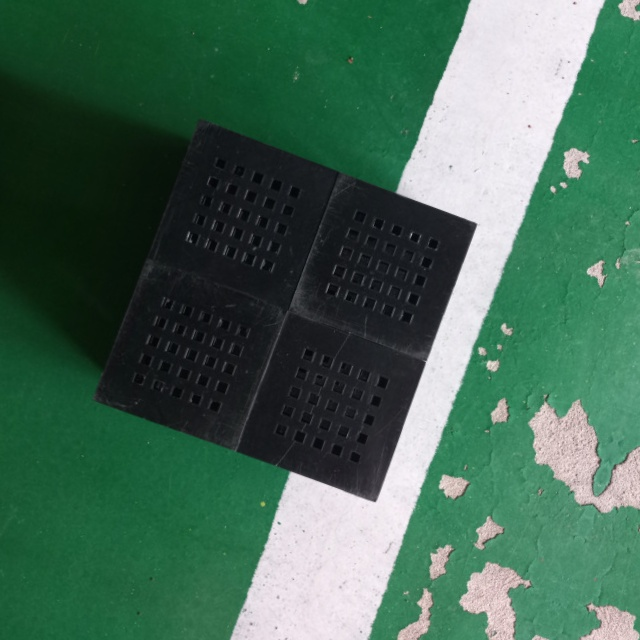pallet: (84, 111, 487, 515)
